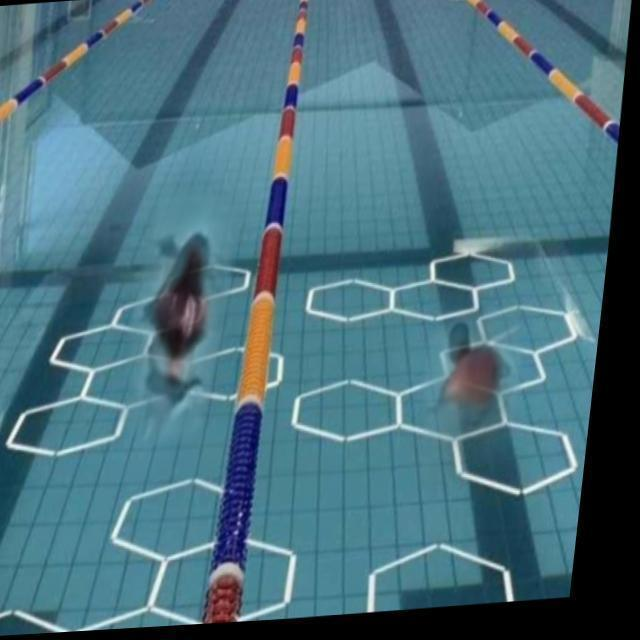swimming: (144, 225, 212, 403), (427, 313, 510, 418)
